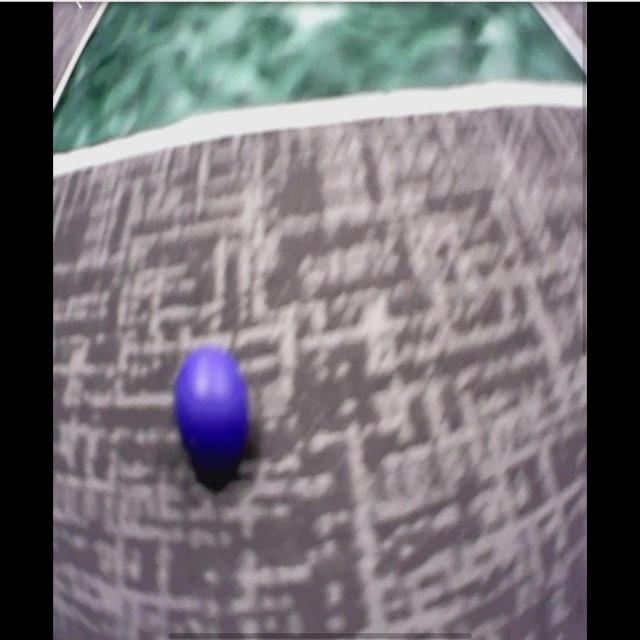ball: (177, 349, 253, 457)
